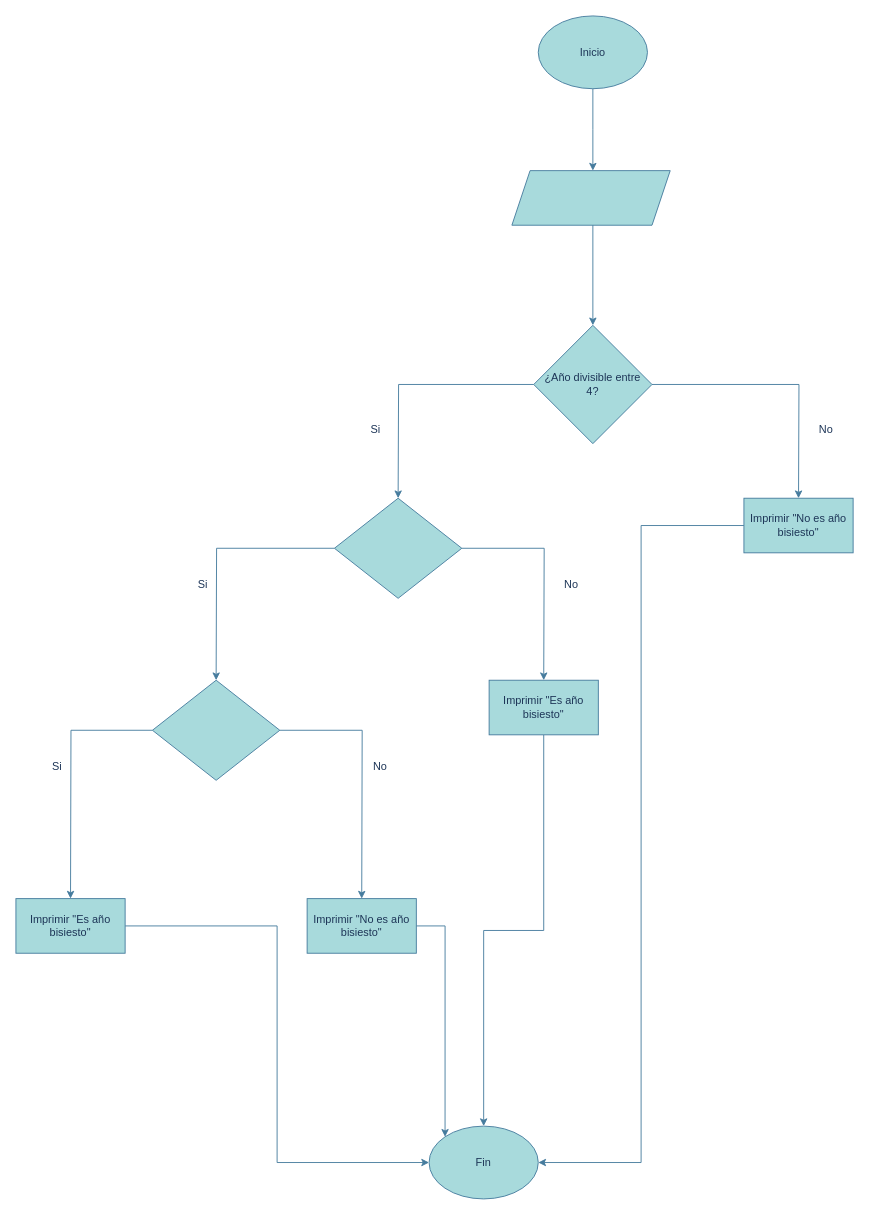
The diagram is 869 pixels wide and 1215 high, and some of its shapes have lost their labels. Here are the shapes that lost their labels. From the top down, the centre of each, then its label:
pixel 590 197: Leer año
pixel 398 547: ¿Año divisible por 100?
pixel 216 729: ¿Año divisible por 400?
